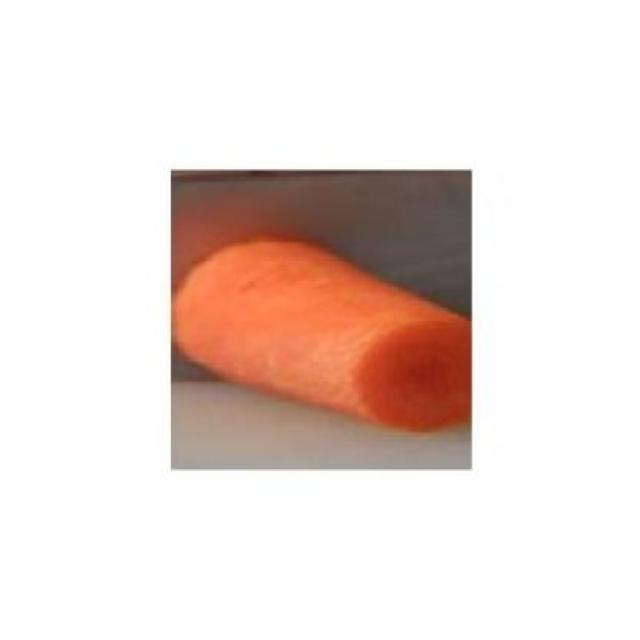carrot: (176, 227, 474, 440)
